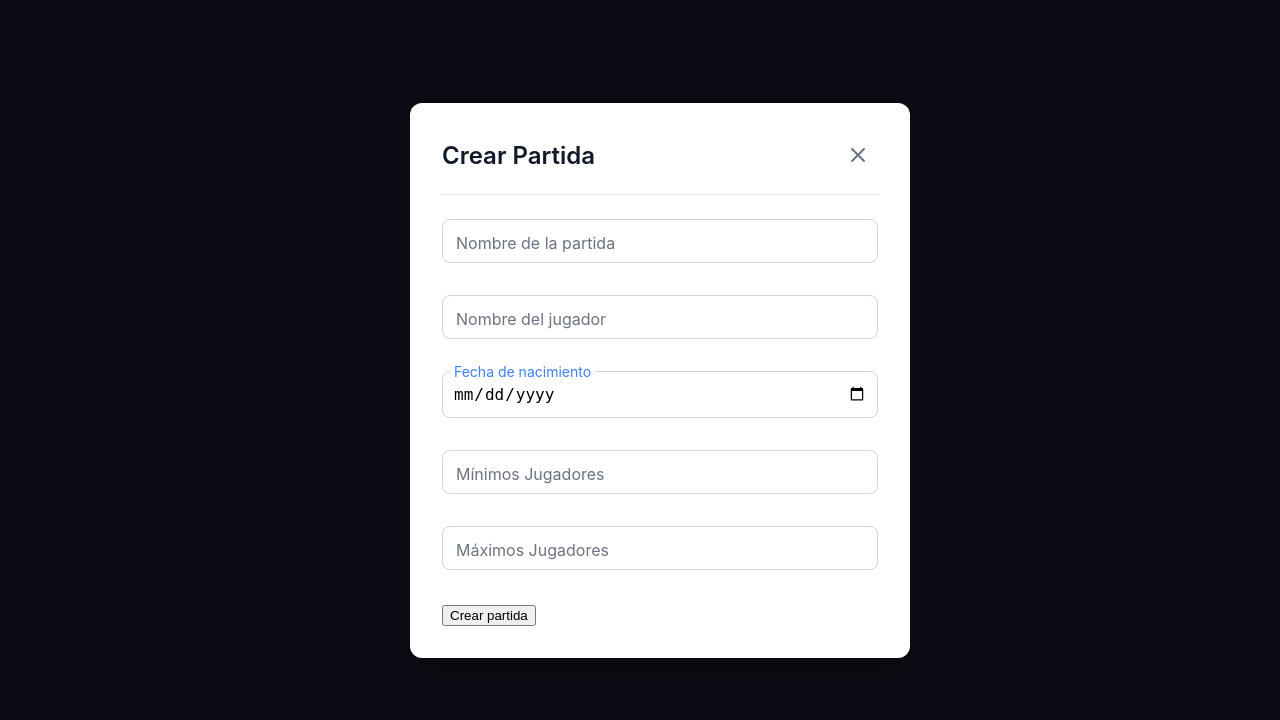
GameCreateFormContainer › valida los campos y muestra errores si están vacíos
The width and height of the screenshot is (1280, 720).
Step 1. Click the button "Crear partida" → (489,615), box [442,604,536,626]
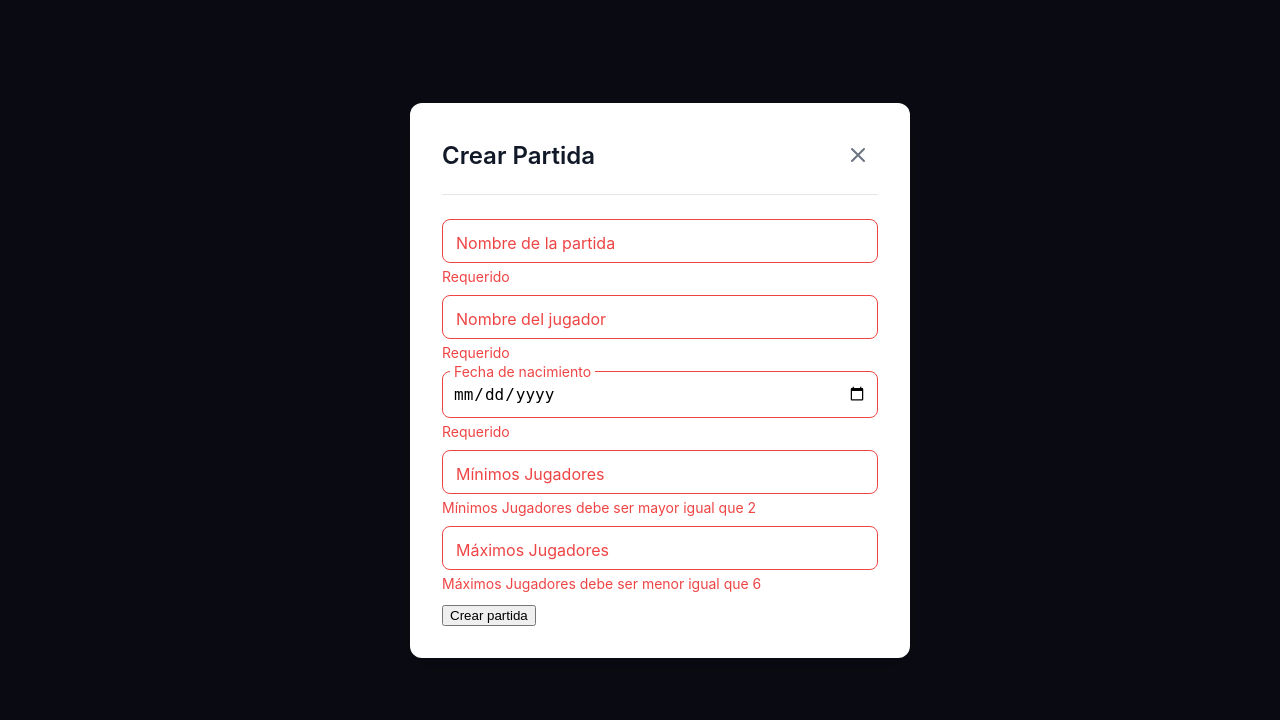
expect the text "Requerido" is shown 3 times: met, box [442,266,510,286]; [442,342,510,362]; [442,420,510,442]
expect the text "Mínimos Jugadores debe ser mayor igual que 2" is shown: met, box [442,496,756,518]
expect the text "Máximos Jugadores debe ser menor igual que 6" is shown: met, box [442,572,761,594]
